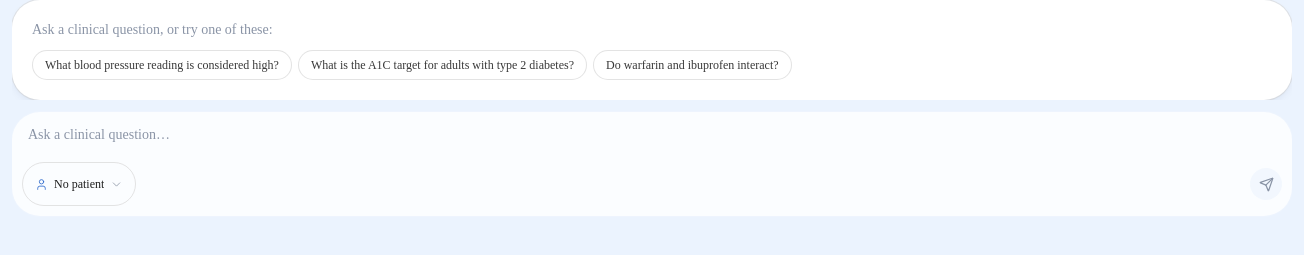
Test: CopilotPanel answer_delta streaming › accumulates deltas into the visible answer text
This screenshot has width=1304, height=255.
Type "first-line therapy?" into the text box with placeholder "Ask a clinical question…" at (652, 134), box 12,112 -> 1292,156
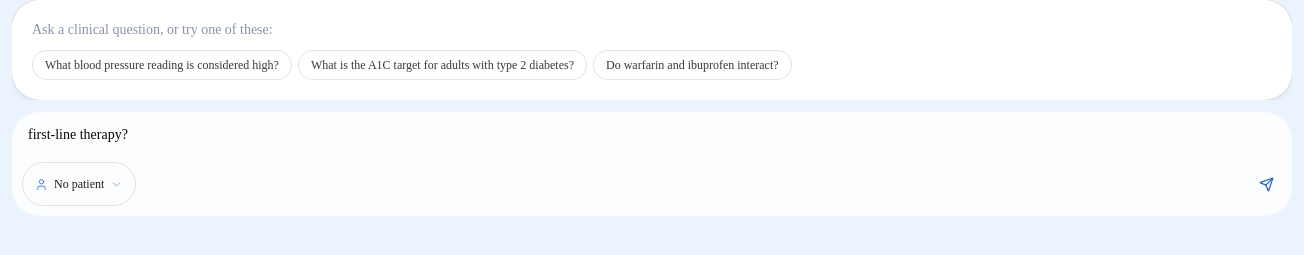
Click the button named "Send" at (1266, 184), box 1250,168 -> 1282,200
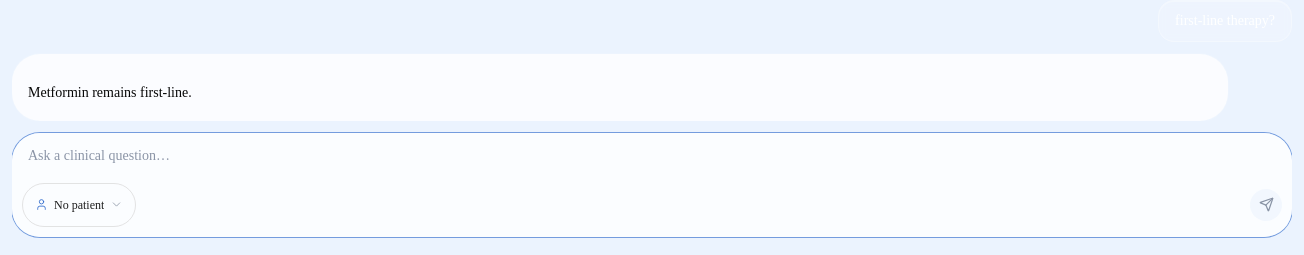
Expected: the text "Metformin remains first-line." is shown, 28,85 -> 192,100
